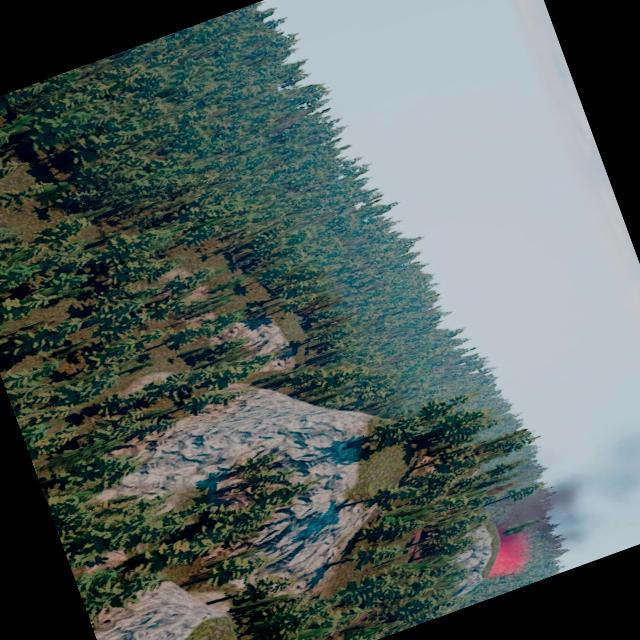smoke: (461, 409, 640, 583)
